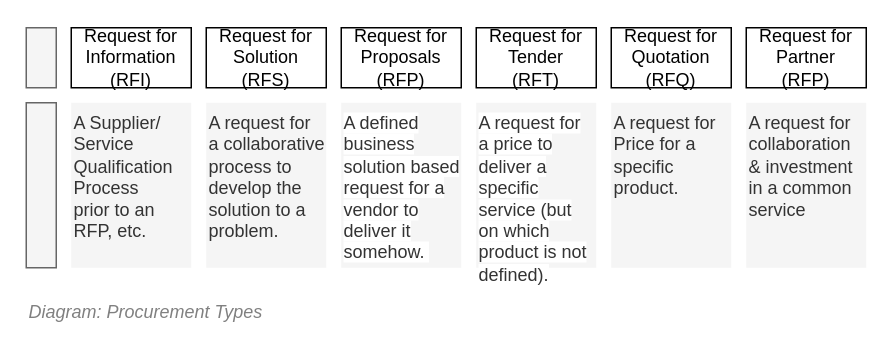
The diagram is 893 pixels wide and 354 high, and some of its shapes have lost their labels. The centre of each missing label's shape, as x and y in pixels:
Description: (x=40, y=184)
Type: (x=40, y=57)
